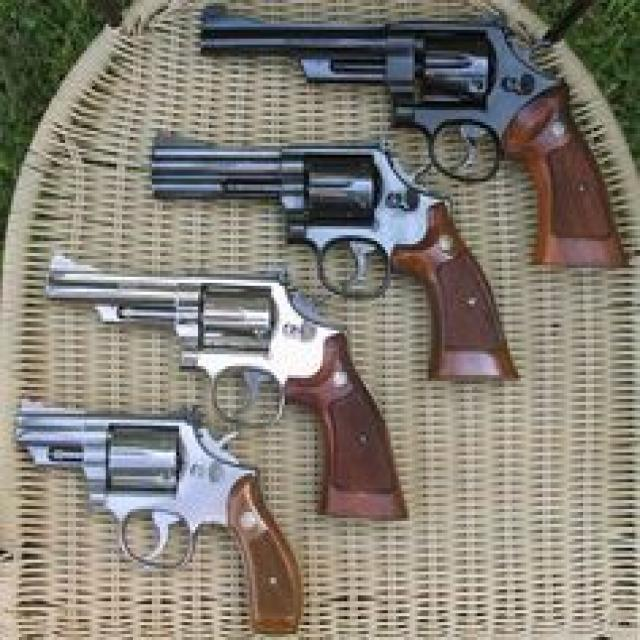revolver: (0, 393, 312, 640)
